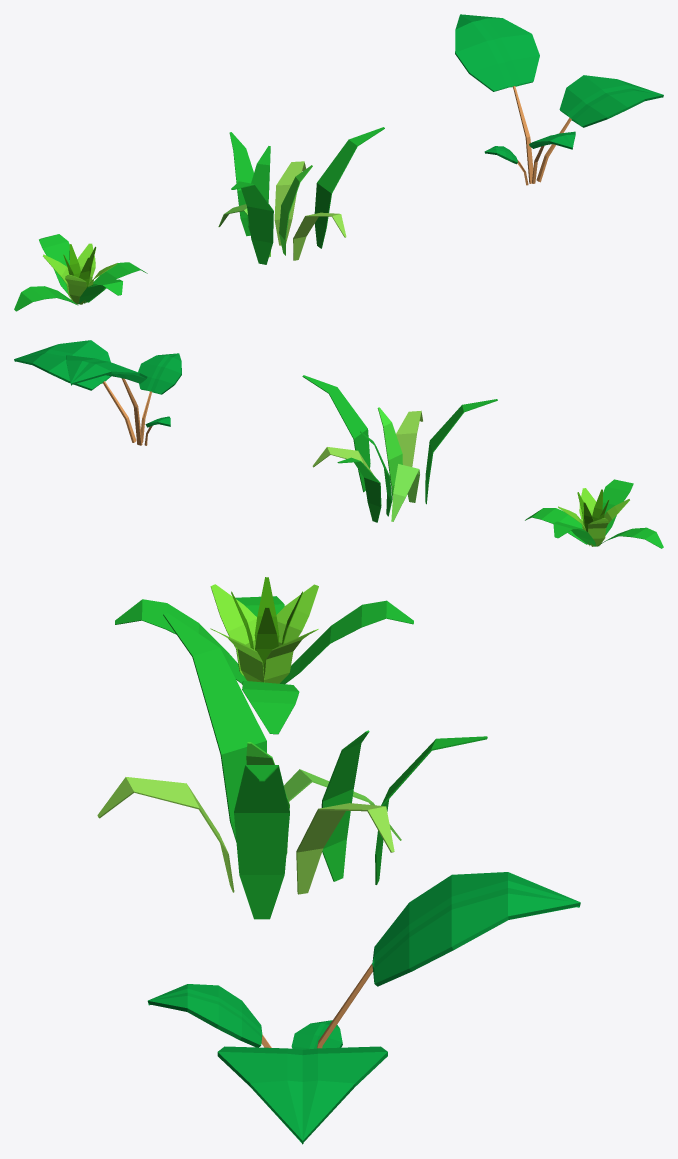
File: plants.fbx
3 views of the same model, one above another, from view 1: azimuth 30°, elevation 25°; view 2: azimuth 150°, elevation 25°; view 3: azimuth 270°, elevation 25° (orthographic). The views are drawn at different scales.
Parts seen in each view (by area): view 1: Plane.001, Plane.002, Plane; view 2: Plane.002, Plane.001, Plane; view 3: Plane.001, Plane.002, Plane.
Part boxes in pixels (box(x1,y1,x2,y2)): Plane.001: box(455, 14, 663, 185); Plane.002: box(218, 127, 384, 264); Plane: box(14, 234, 147, 311); Plane.002: box(302, 375, 497, 522); Plane.001: box(14, 340, 181, 445); Plane: box(525, 479, 663, 548); Plane.001: box(147, 872, 580, 1144); Plane.002: box(97, 613, 487, 919); Plane: box(115, 577, 413, 734).
Size of the model in its own units: 6476 by 1181 by 2130.
